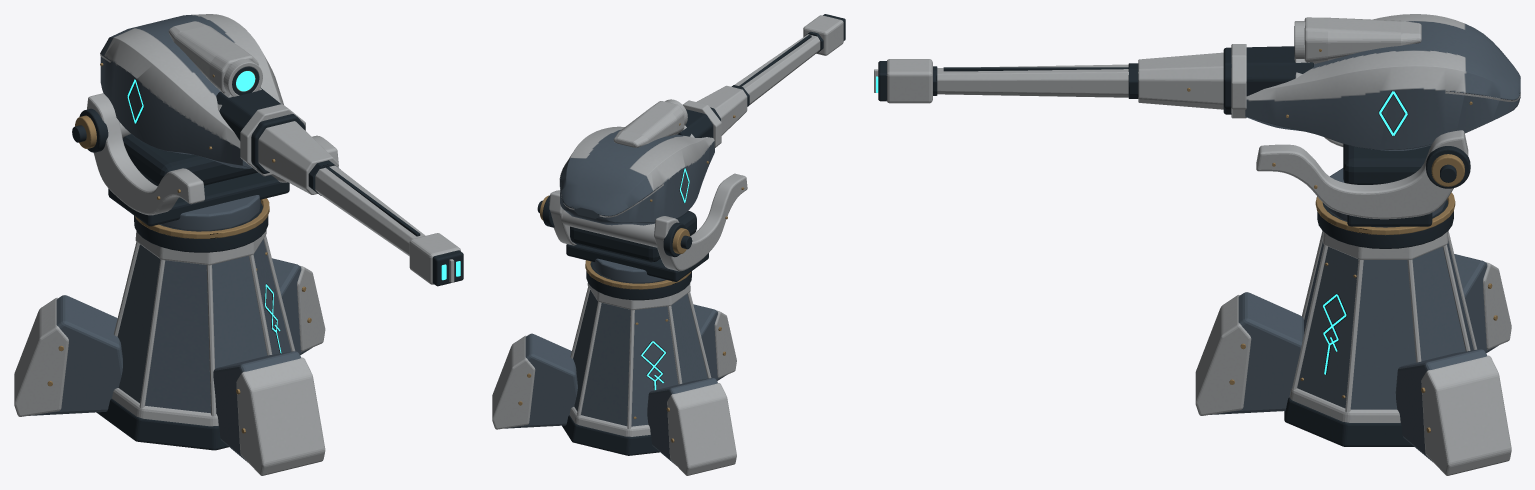
File: sniper-c-preview.glb
3 views of the same model, side by side, from view 1: azimuth 30°, elevation 25°; view 2: azimuth 150°, elevation 25°; view 3: azimuth 270°, elevation 25° (orthographic). The views are drawn at different scales.
Visible parts, largest first — view 1: turret_root_geometry, turret_barrel_geometry, turret_head_geometry; view 2: turret_root_geometry, turret_barrel_geometry, turret_head_geometry; view 3: turret_root_geometry, turret_barrel_geometry, turret_head_geometry.
Part boxes in pixels (x1=…): turret_root_geometry: x1=14, y1=230, x2=325, y2=475; turret_barrel_geometry: x1=100, y1=14, x2=463, y2=286; turret_head_geometry: x1=72, y1=93, x2=338, y2=252; turret_root_geometry: x1=492, y1=283, x2=736, y2=475; turret_barrel_geometry: x1=559, y1=14, x2=845, y2=225; turret_head_geometry: x1=537, y1=173, x2=747, y2=300; turret_root_geometry: x1=1195, y1=231, x2=1511, y2=475; turret_barrel_geometry: x1=874, y1=14, x2=1520, y2=150; turret_head_geometry: x1=1256, y1=130, x2=1470, y2=248.
Size of the model in its own units: 0.7842 by 0.9078 by 1.39.
5 materials, 4 textured.
